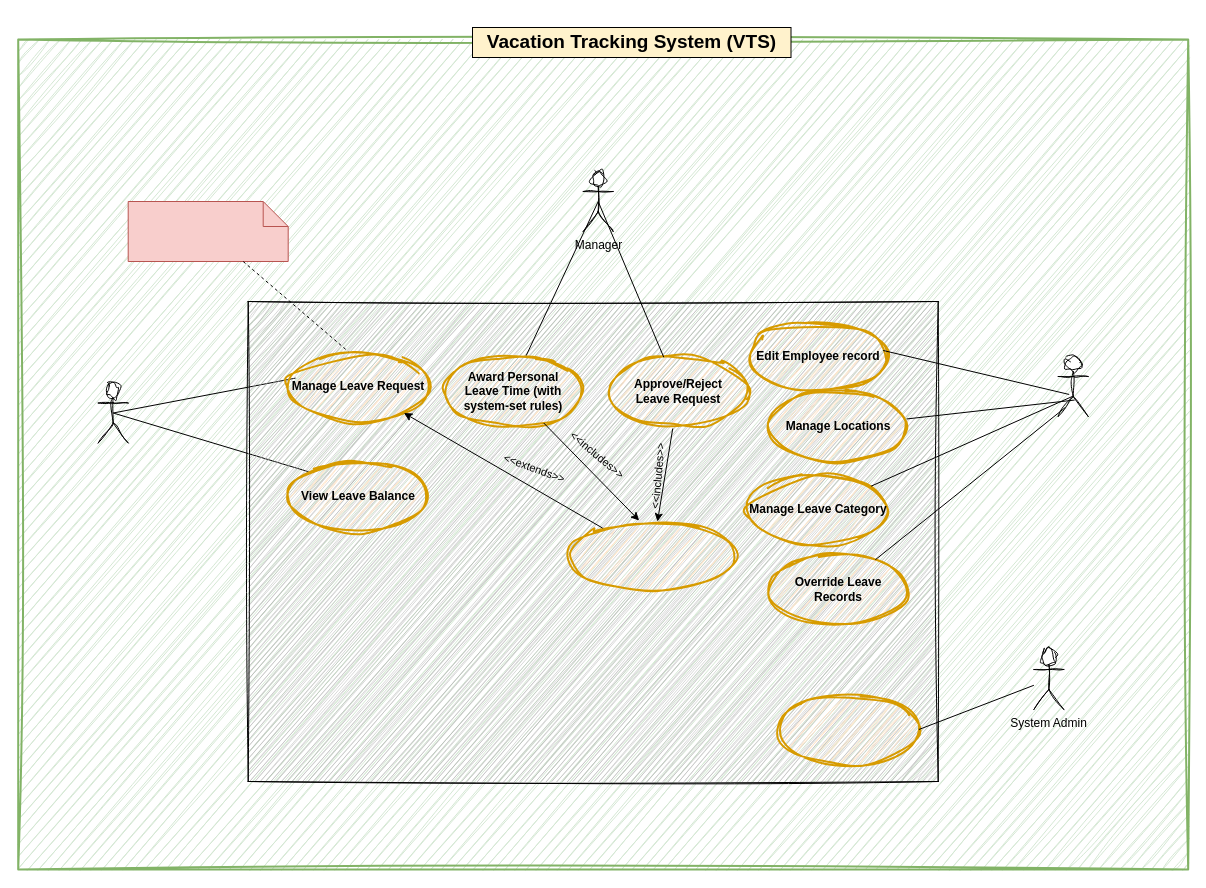
Image size: 1206x888. Some labels were removed from this diagram. Here are the shapes that lost their labels. From the top down, the centre of each, then its label:
point (207, 231): Edit , Submit , and Cancel a leave request
point (1072, 386): Clerk
point (112, 412): Employee
point (651, 556): Notify Employee
point (848, 729): Back Up System Logs
